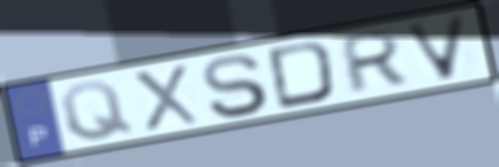D: (265, 38, 339, 112)
Q: (56, 78, 138, 143)
R: (339, 28, 409, 98)
S: (198, 52, 272, 121)
V: (400, 13, 471, 83)
X: (128, 62, 203, 134)
